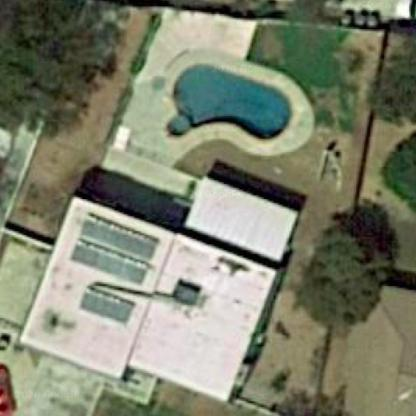solar_panel: (72, 212, 160, 285), (70, 279, 144, 331)
swimming_pool: (160, 54, 308, 151)
